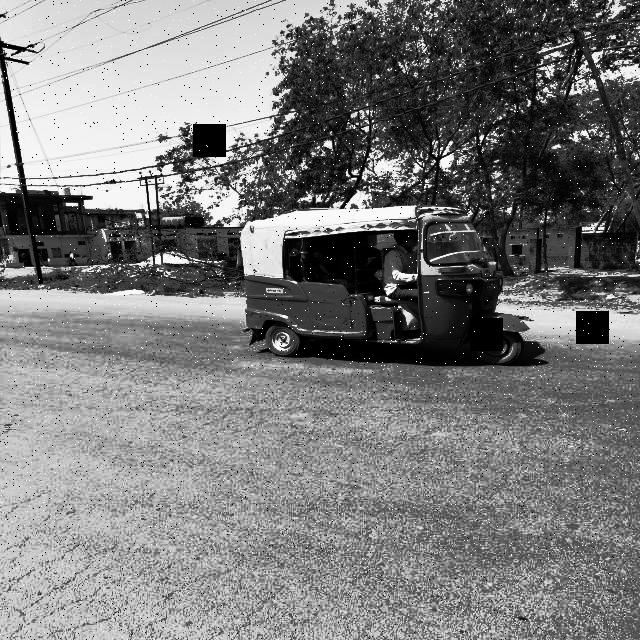Auto-Rickshaw: (227, 201, 529, 369)
